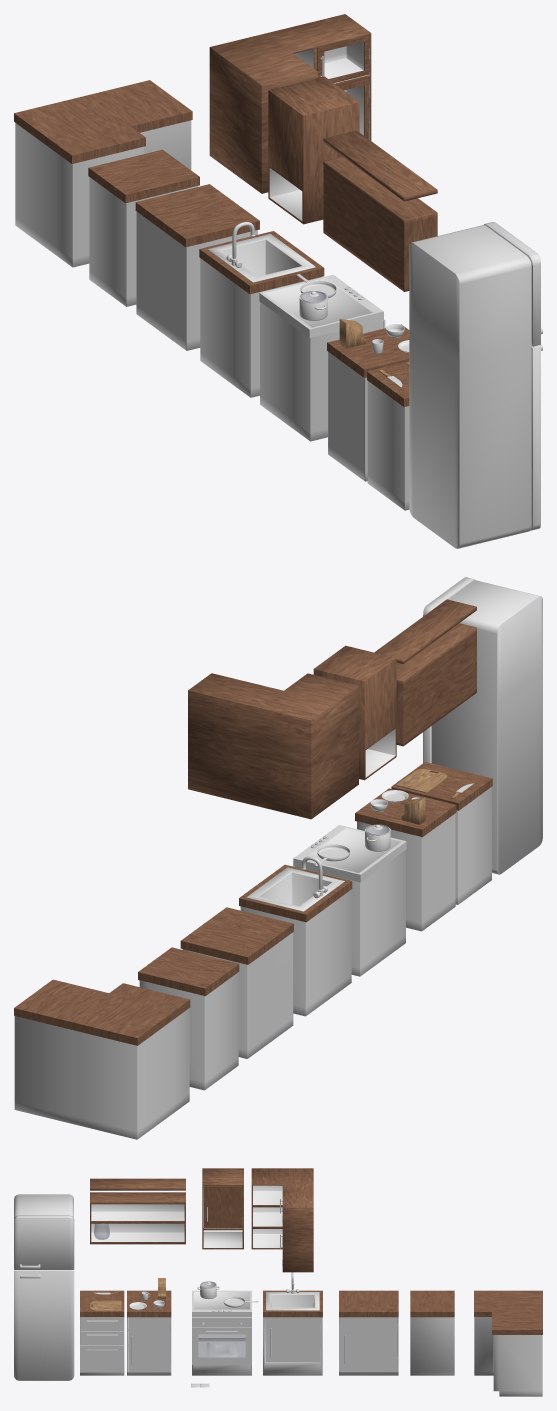
Rendered from all_models.fbx.
The picture shows the model from 3 angles, top to bottom: view 1: azimuth 30°, elevation 25°; view 2: azimuth 150°, elevation 25°; view 3: azimuth 270°, elevation 25°; orthographic projection. The views are drawn at different scales.
Visible parts, largest first — view 1: mainBlock, mainBlock.001, mainBlock.004, mainBlock.002, mainBlock.019, stoleshnica_large_LP, duhovkaStol, mainBlock.044, mainBlock.005, mainBlock.052, stoleshnica_big_LP, mainBlock.006 (+13 smaller); view 2: mainBlock.001, mainBlock, mainBlock.004, stoleshnica_large_LP, mainBlock.019, mainBlock.005, mainBlock.002, mainBlock.044, duhovkaStol, mainBlock.052, mainBlock.003, stoleshnica_big_LP (+9 smaller); view 3: dver_LP, mainBlock.001, mainBlock.019, mainBlock.004, dver-verh_LP, mainBlock.051, stoleshnica_large_LP, mainBlock.052, mainBlock.012, mainBlock.053, mainBlock.002, stoleshnica_big_LP (+21 smaller).
Boxes of the visible parts, x1,y1,x2,y2 form: mainBlock: (409, 225, 531, 548); mainBlock.001: (209, 14, 371, 193); mainBlock.004: (15, 120, 191, 267); mainBlock.002: (268, 76, 359, 224); mainBlock.019: (323, 156, 437, 291); stoleshnica_large_LP: (14, 80, 192, 163); duhovkaStol: (260, 302, 381, 441); mainBlock.044: (136, 211, 257, 350); mainBlock.005: (200, 258, 321, 397); mainBlock.052: (89, 177, 197, 306); stoleshnica_big_LP: (135, 184, 259, 247); mainBlock.006: (367, 381, 409, 510); mainBlock.001: (188, 673, 358, 819); mainBlock: (431, 580, 542, 874); mainBlock.004: (14, 1008, 189, 1139); stoleshnica_large_LP: (14, 979, 190, 1045); mainBlock.019: (396, 623, 476, 746); mainBlock.005: (240, 889, 351, 1016); mainBlock.002: (313, 645, 396, 780); mainBlock.044: (182, 932, 293, 1058); duhovkaStol: (295, 850, 405, 976); mainBlock.052: (139, 972, 238, 1090); mainBlock.003: (357, 813, 455, 931); stoleshnica_big_LP: (180, 907, 293, 964); dver_LP: (14, 1270, 74, 1380); mainBlock.001: (251, 1168, 313, 1272); mainBlock.019: (90, 1192, 185, 1244); mainBlock.004: (474, 1317, 542, 1396); dver-verh_LP: (14, 1215, 74, 1269); mainBlock.051: (340, 1317, 397, 1371); stoleshnica_large_LP: (474, 1290, 542, 1334); mainBlock.052: (410, 1317, 454, 1375); mainBlock.012: (265, 1318, 320, 1362); mainBlock.053: (128, 1317, 170, 1371); mainBlock.002: (202, 1168, 243, 1249); stoleshnica_big_LP: (339, 1290, 398, 1317).
Bounding box in the file's own units: 378 × 835 × 2112.
